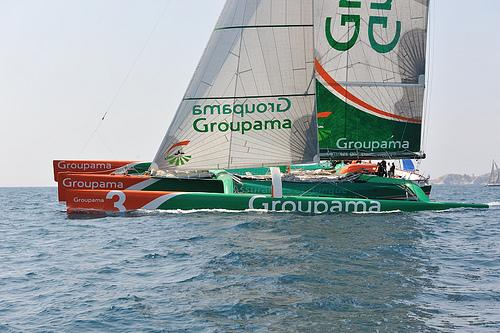Ship: (53, 1, 500, 219)
